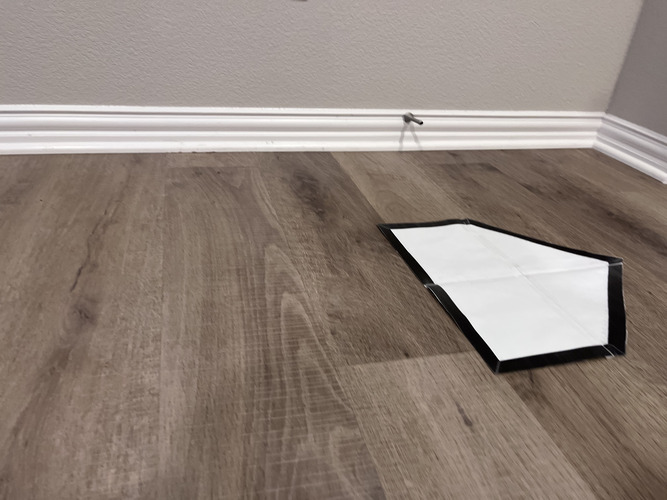homeplate: (376, 219, 626, 374)
